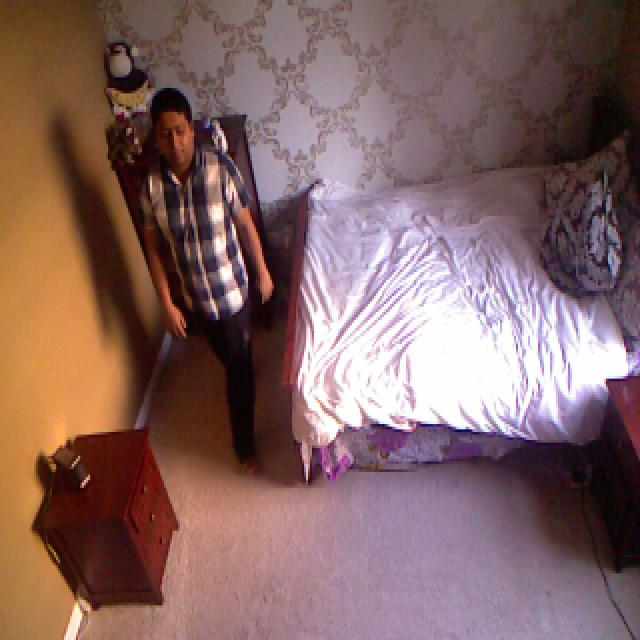standing: (132, 84, 282, 487)
